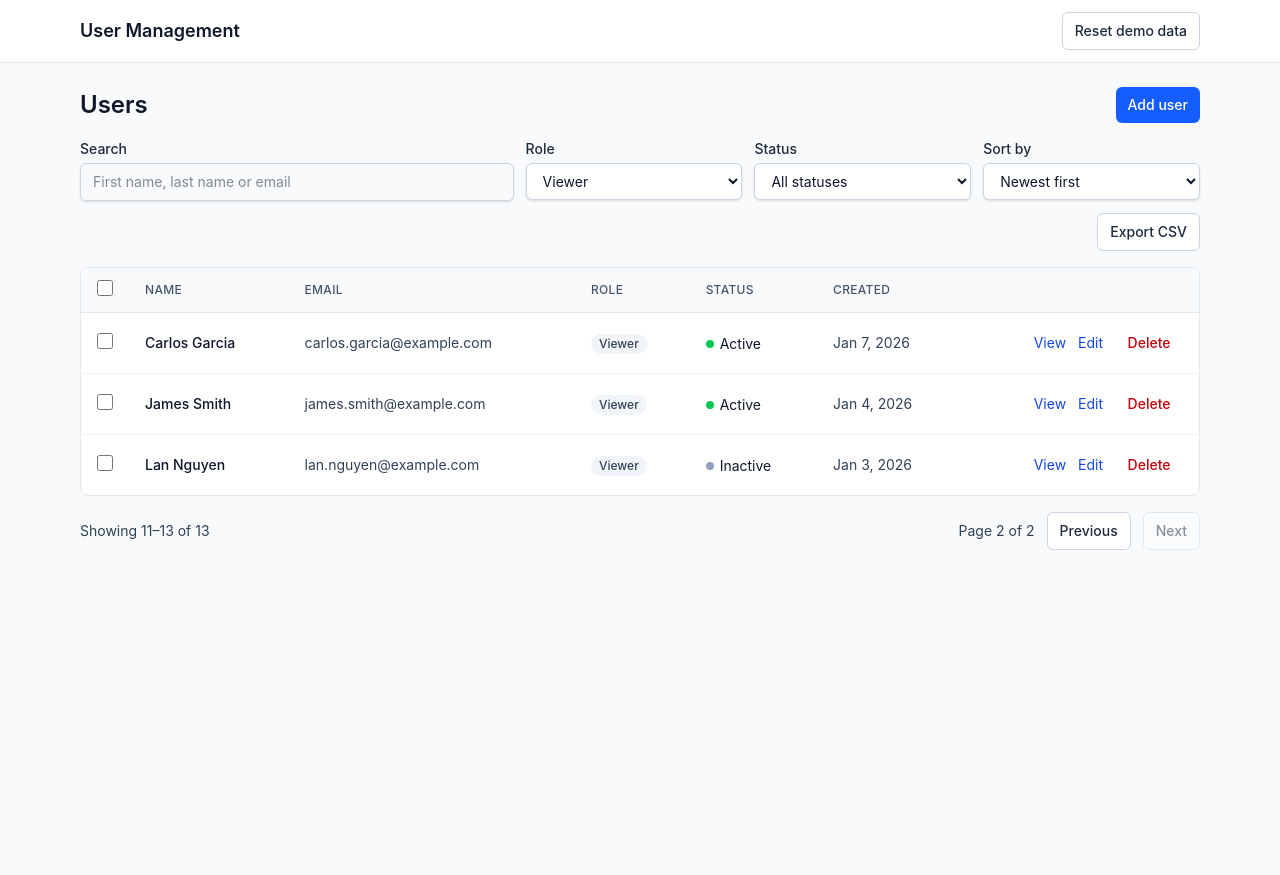
Scenario: Reset demo data › restores the seed data, toasts and goes to the unfiltered list
Expected: the table named "Users" is shown, [81,268,1199,495]
Click the button "Reset demo data" at {"x": 1131, "y": 31}, box [1062,12,1200,50]
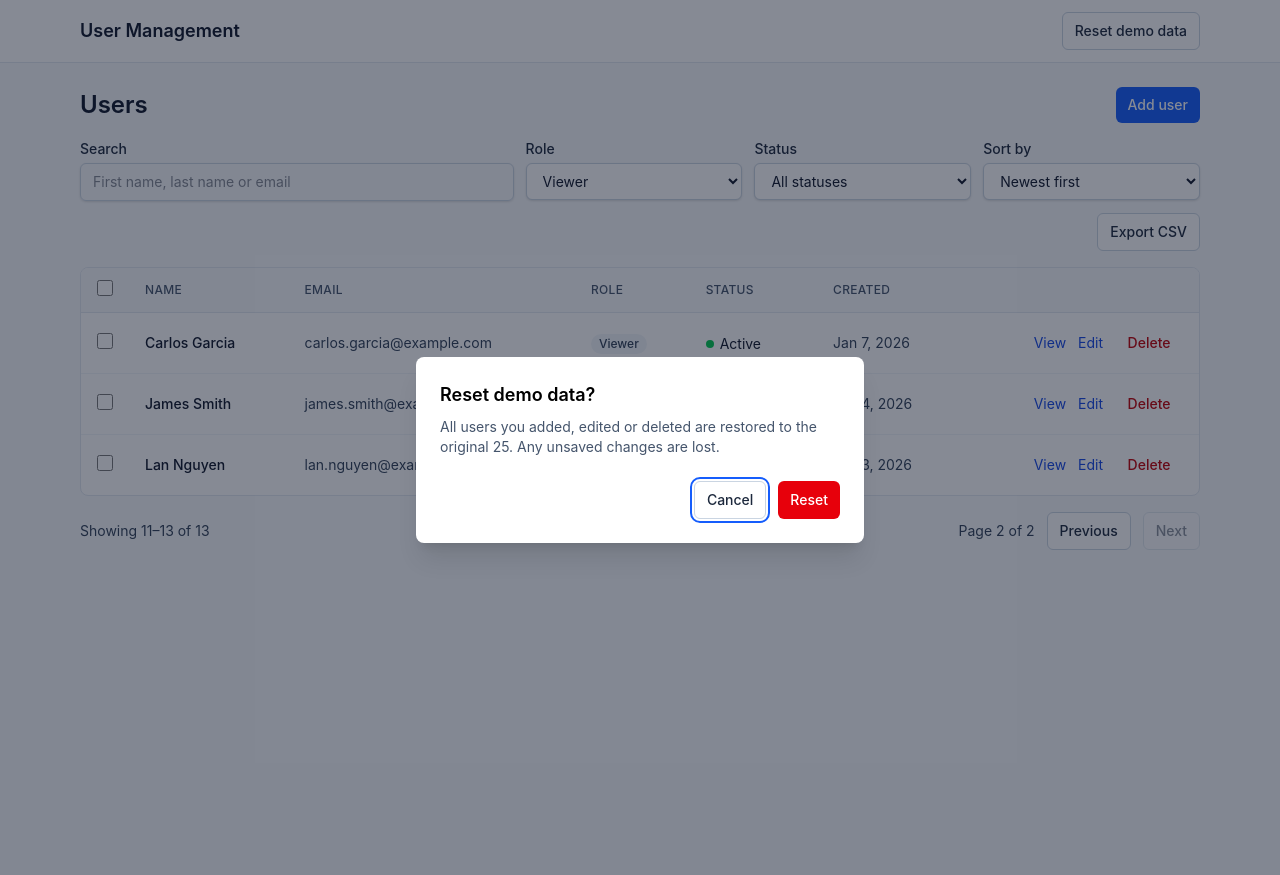
Click the button "Reset" at {"x": 809, "y": 500}, box [778,481,840,519]
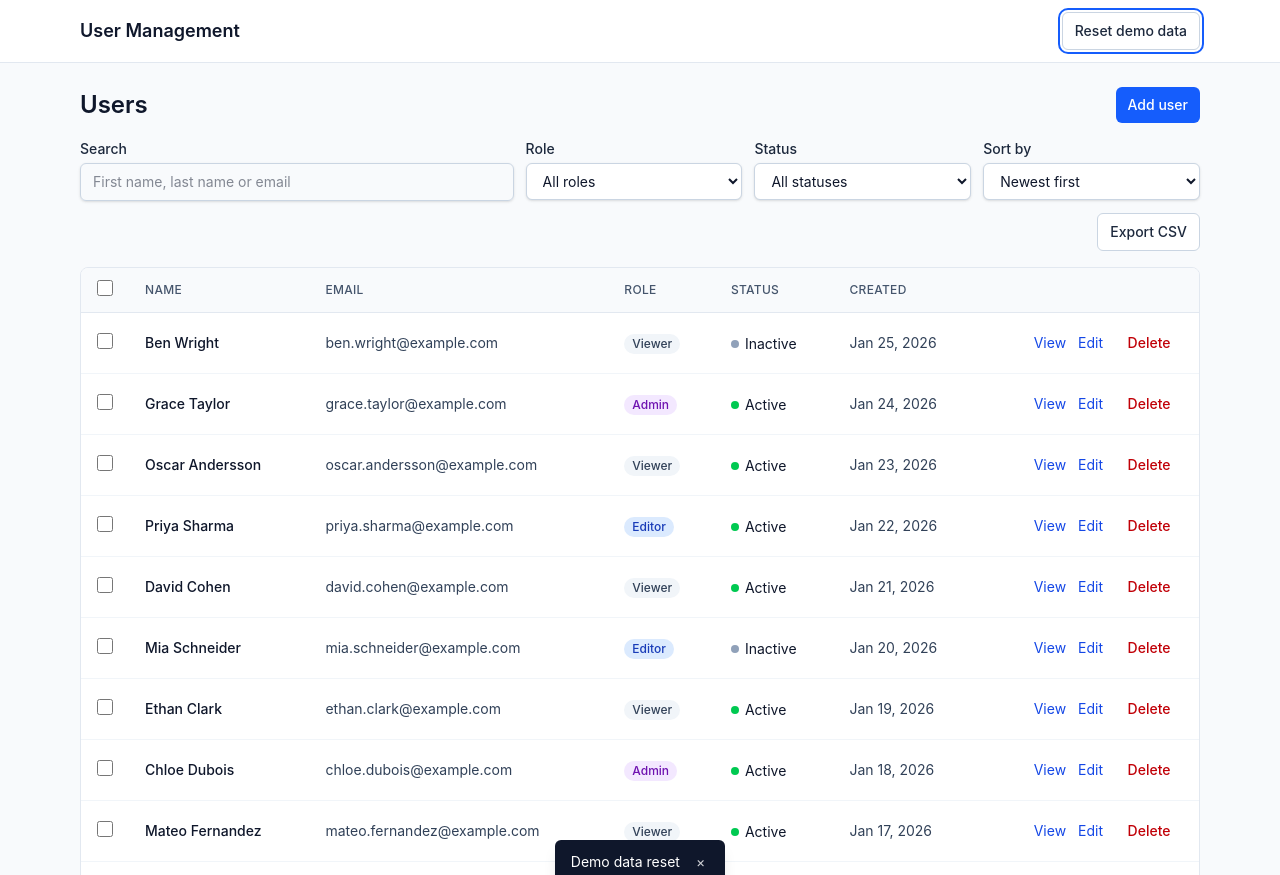
Now the message named "Notifications" shows "Demo data reset", box [571,853,680,870]
